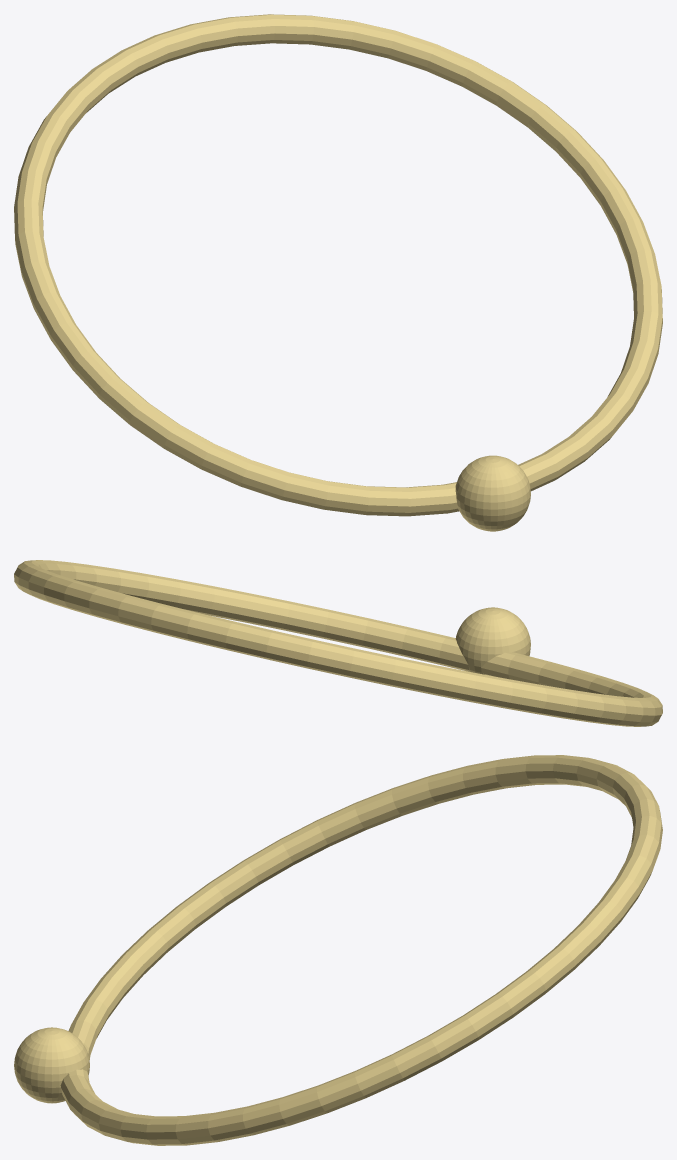
File: necklace.glb
The picture shows the model from 3 angles, top to bottom: view 1: azimuth 30°, elevation 25°; view 2: azimuth 150°, elevation 25°; view 3: azimuth 270°, elevation 25°; orthographic projection.
Parts seen in each view (by area): view 1: necklace; view 2: necklace; view 3: necklace.
Boxes of the visible parts, x1=… form: necklace: x1=14, y1=14, x2=662, y2=531; necklace: x1=14, y1=560, x2=662, y2=726; necklace: x1=14, y1=755, x2=662, y2=1145.
Size of the model in its own units: 0.157 by 0.0742 by 0.1535.
